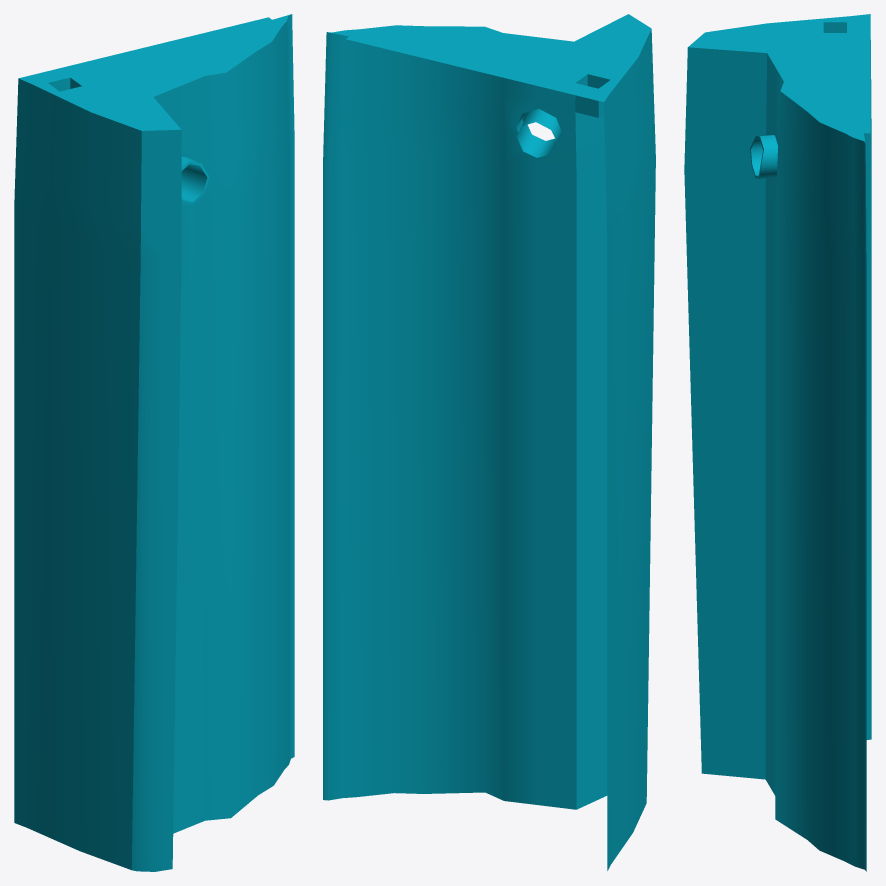
The model's file is env_st_salle_1_sol_2.fbx.
3 renders of one model, left to right at view 1: azimuth 30°, elevation 25°; view 2: azimuth 150°, elevation 25°; view 3: azimuth 270°, elevation 25°, orthographic. The views are drawn at different scales.
Visible parts, largest first — view 1: Salle_1_Plateforme_2; view 2: Salle_1_Plateforme_2; view 3: Salle_1_Plateforme_2.
Part boxes in pixels (x1,y1,x2,y2): Salle_1_Plateforme_2: [14, 14, 294, 871]; Salle_1_Plateforme_2: [323, 14, 655, 870]; Salle_1_Plateforme_2: [684, 14, 871, 871].
Bounding box in the file's own units: 1683 × 4308 × 1006.
